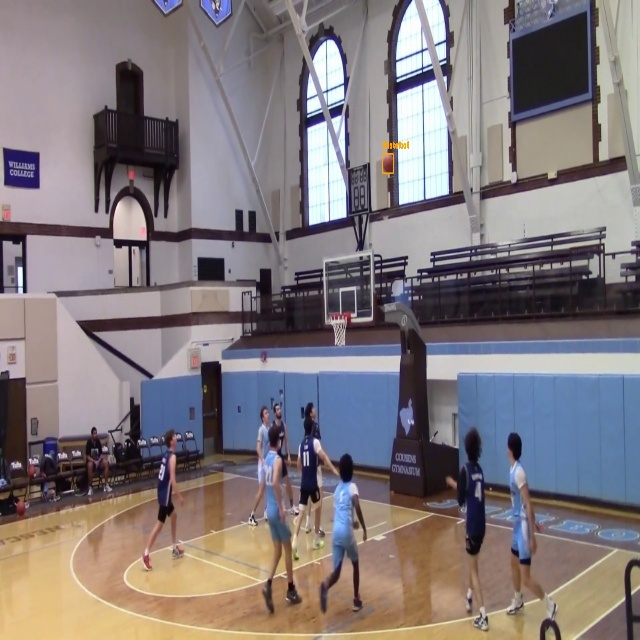Basketball: (383, 154, 393, 173)
